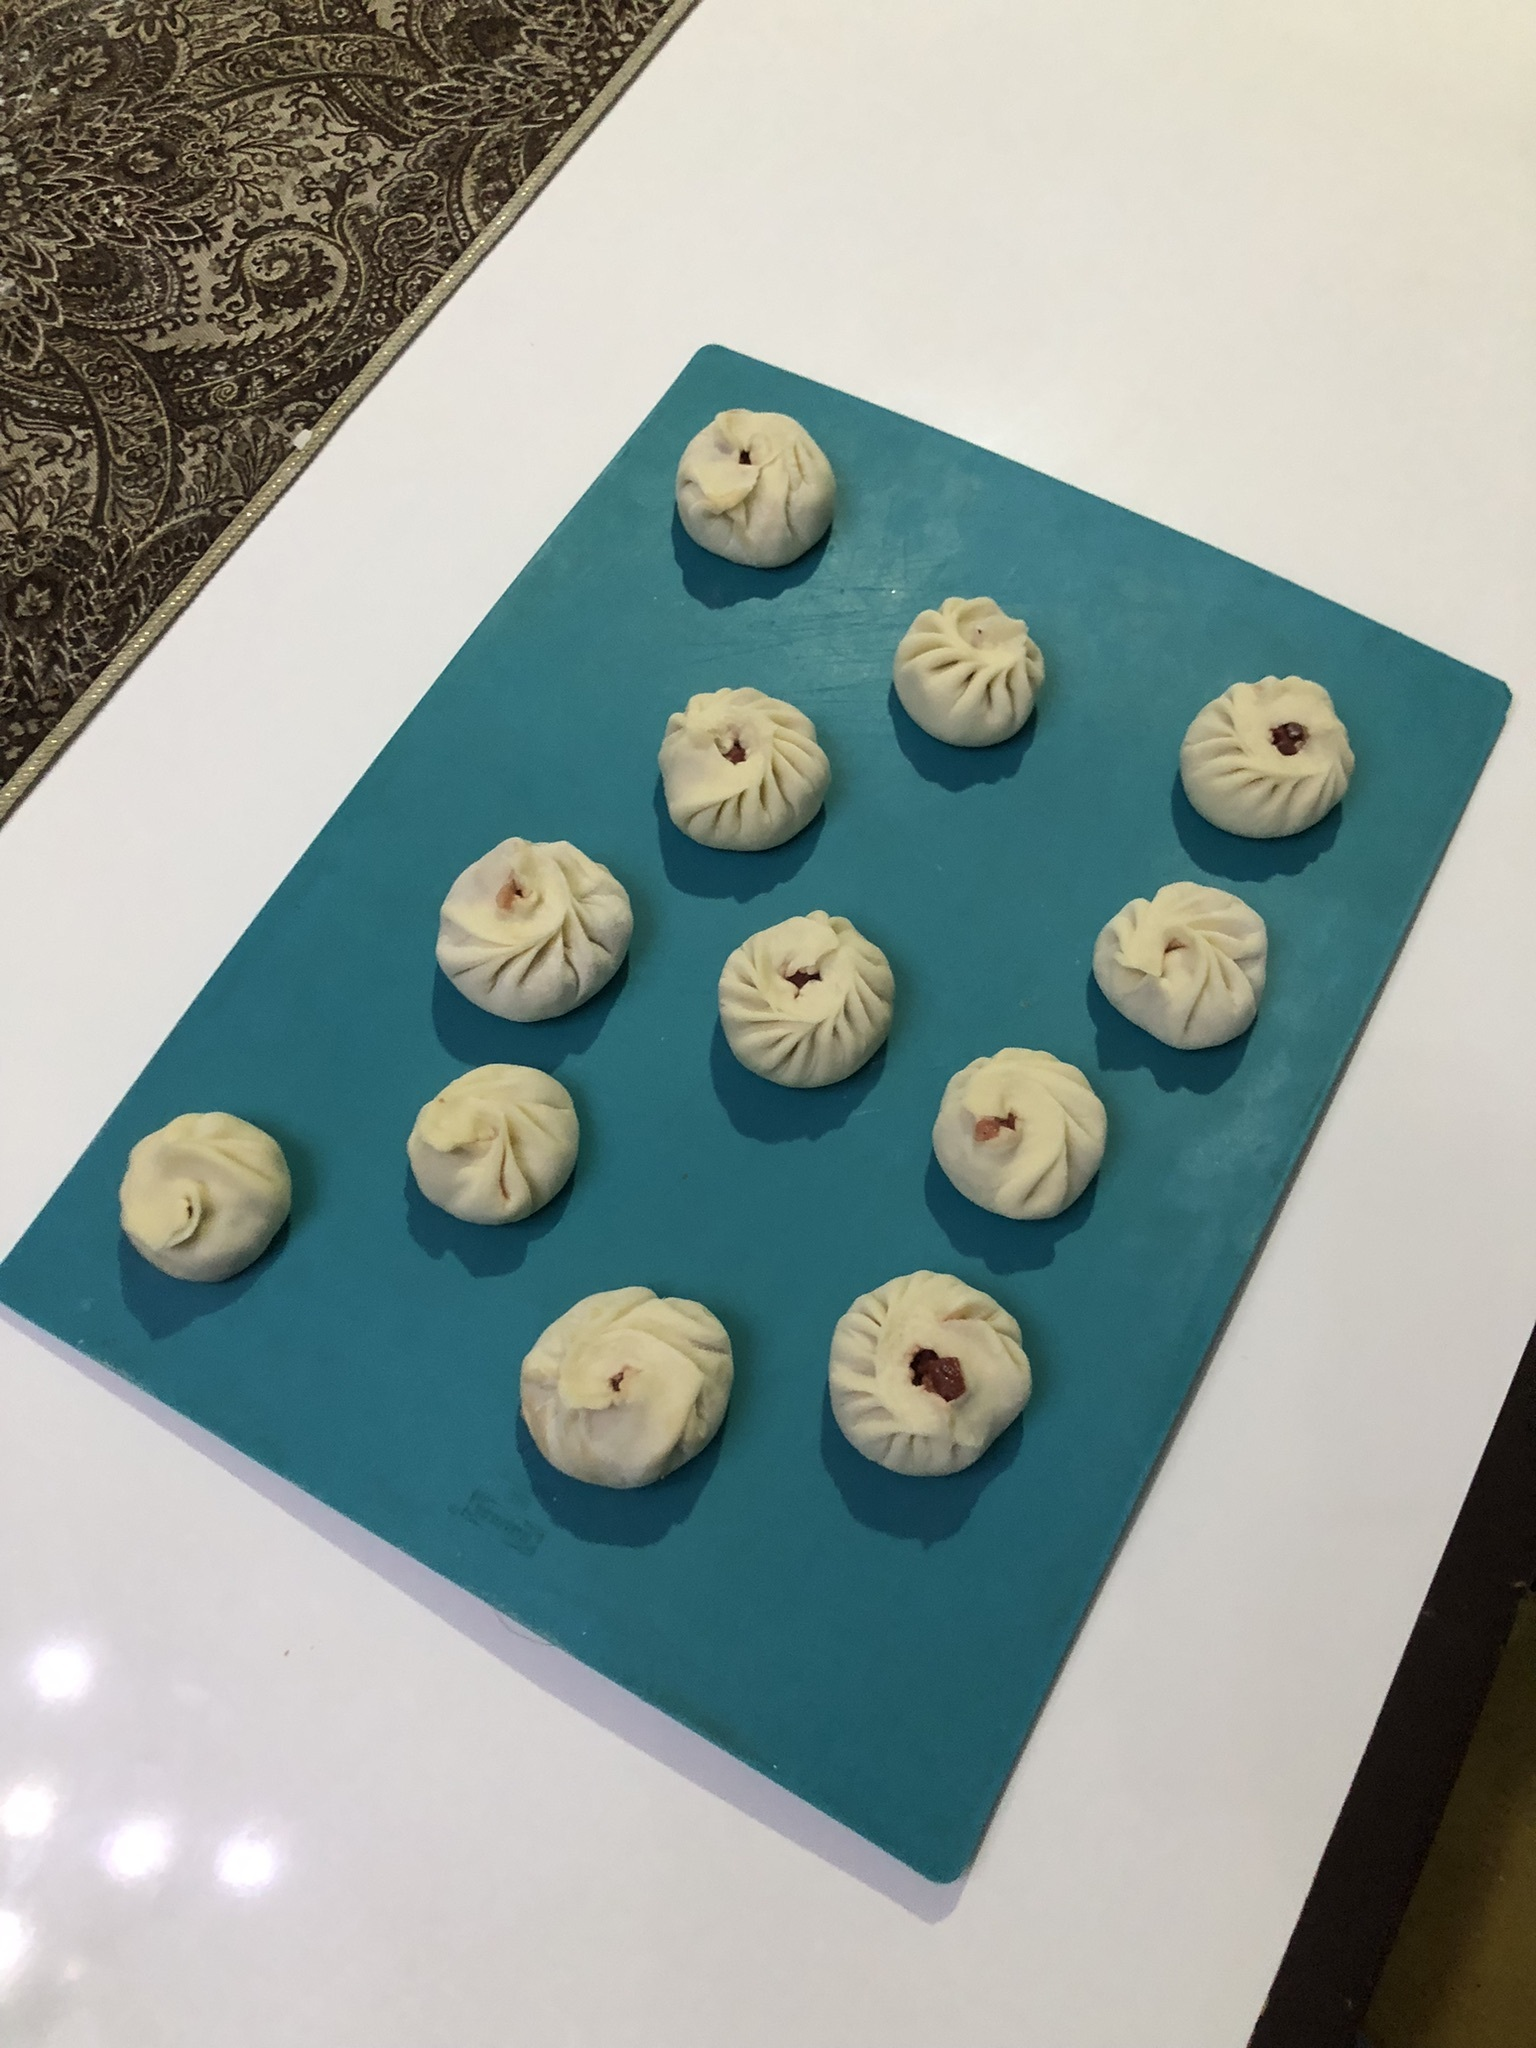buuz: (511, 1276, 750, 1505), (815, 1261, 1046, 1487), (426, 829, 645, 1034), (106, 1097, 316, 1306), (390, 1045, 603, 1243), (707, 898, 908, 1100), (1084, 868, 1284, 1064), (925, 1035, 1117, 1234), (644, 677, 842, 860), (1168, 669, 1362, 848), (662, 397, 849, 581), (878, 585, 1058, 764)
